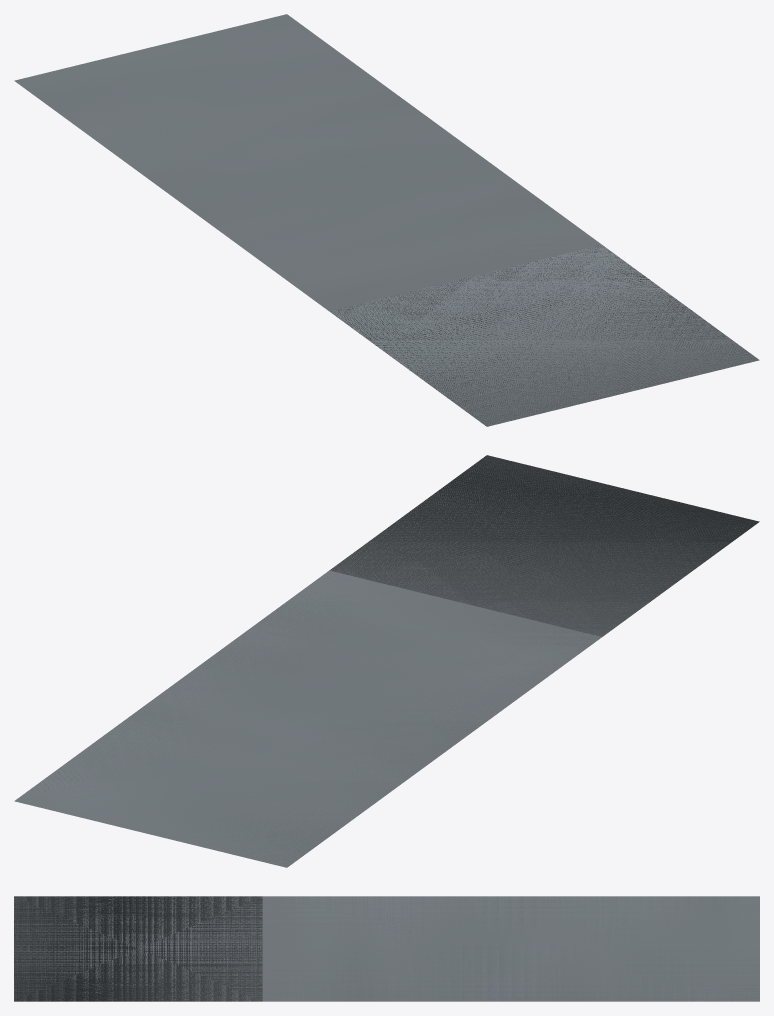
3 renders of one model, top to bottom at view 1: azimuth 30°, elevation 25°; view 2: azimuth 150°, elevation 25°; view 3: azimuth 270°, elevation 25°, orthographic. The views are drawn at different scales.
Bounding box in the file's own units: 0.08 × 0 × 0.24.
1 material, 1 textured.
